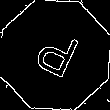P_SW: (28, 24, 82, 86)
